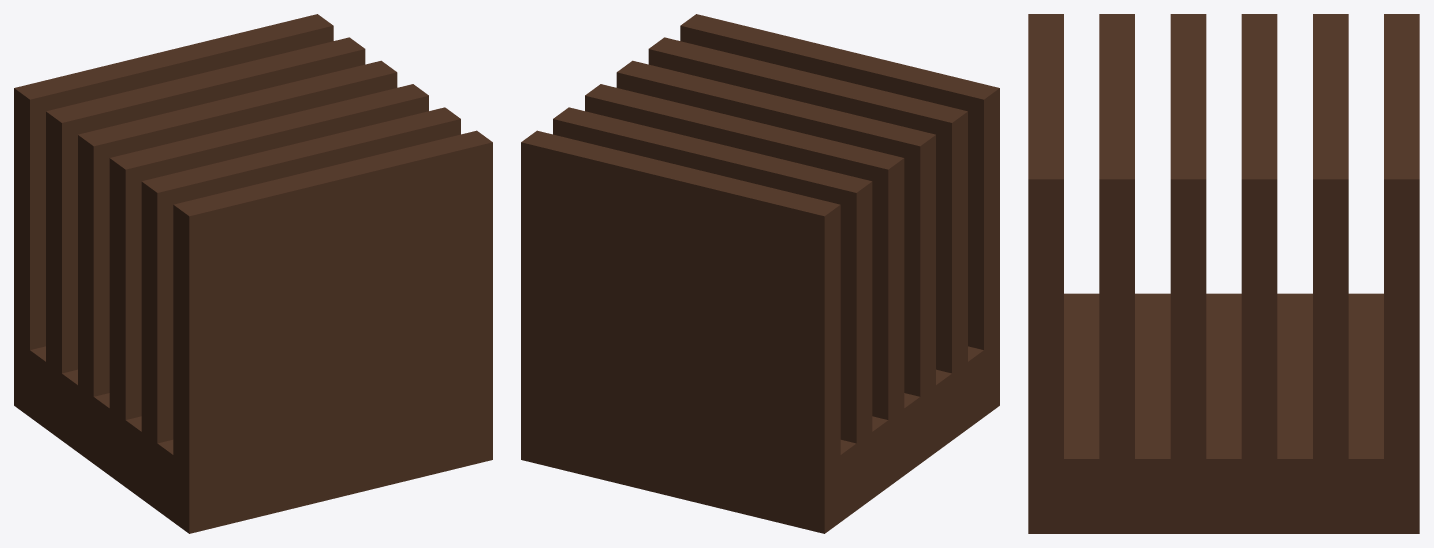
The model's file is VinylHolder.dae.
The picture shows the model from 3 angles, left to right: view 1: azimuth 30°, elevation 25°; view 2: azimuth 150°, elevation 25°; view 3: azimuth 270°, elevation 25°; orthographic projection. The views are drawn at different scales.
Visible parts, largest first — view 1: VinylHolder; view 2: VinylHolder; view 3: VinylHolder.
Boxes of the visible parts, left/top/right/bottom form: VinylHolder: left=14, top=14, right=492, bottom=533; VinylHolder: left=521, top=14, right=999, bottom=533; VinylHolder: left=1028, top=14, right=1419, bottom=533.
Size of the model in its own units: 2 by 2 by 2.
